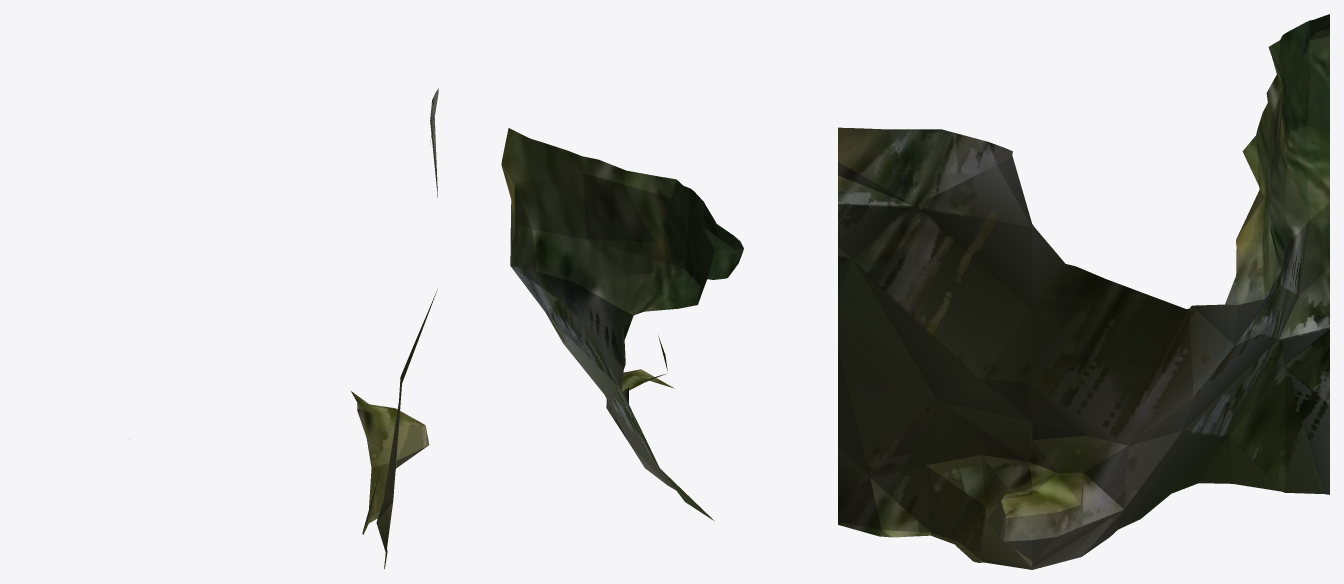
3 renders of one model, left to right at view 1: azimuth 30°, elevation 25°; view 2: azimuth 150°, elevation 25°; view 3: azimuth 270°, elevation 25°, orthographic. The views are drawn at different scales.
Bounding box in the file's own units: 0.6338 × 0.8374 × 0.8373.
3 materials, 3 textured.
